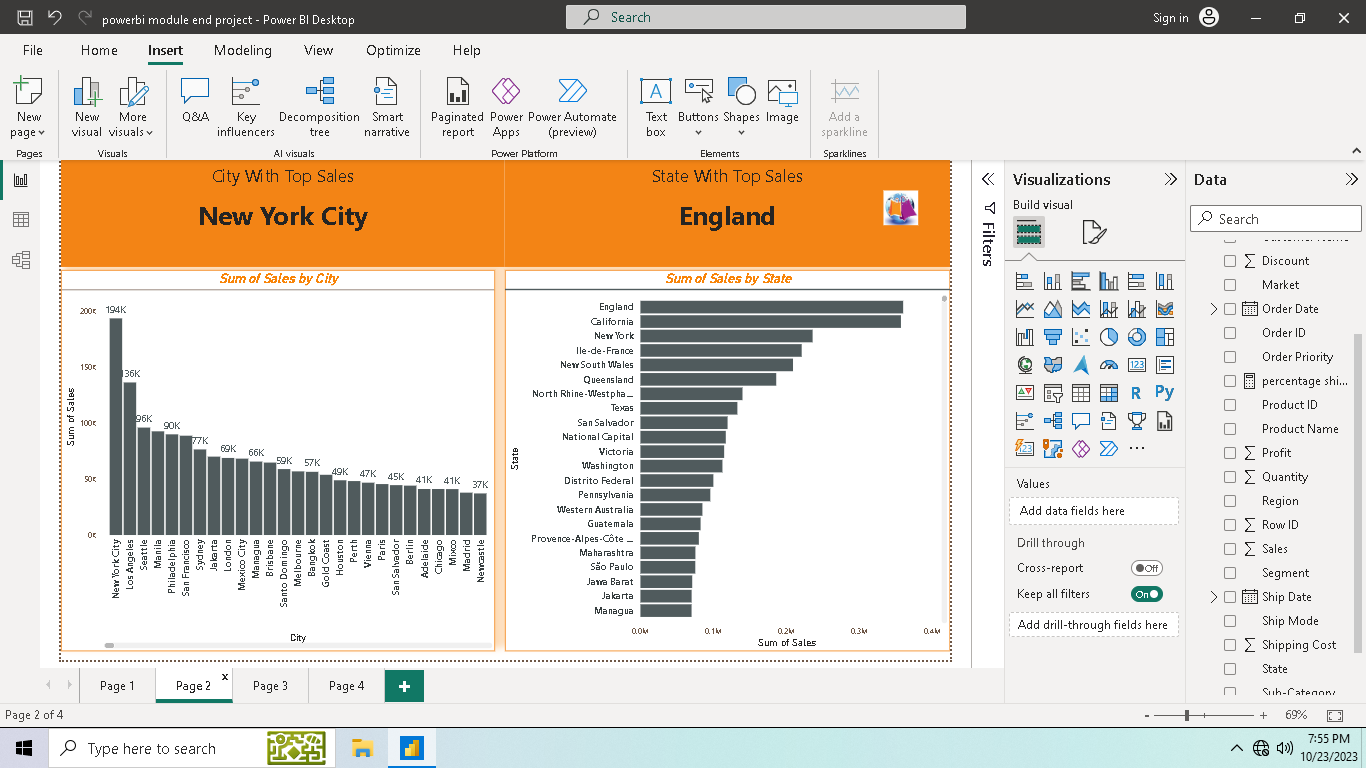

The dashboard page shown, as its layout file describes it:
{"tool":"powerbi","page":{"name":"Page 2","canvas":[1280,720],"ordinal":1},"visuals":[{"type":"clusteredColumnChart","fields":{"Category":["Orders.City"],"Y":["Sum(Orders.Sales)"]},"box":[0,158.4,625,548.6],"z":0},{"type":"clusteredBarChart","fields":{"Category":["Orders.State"],"Y":["Sum(Orders.Sales)"]},"box":[639.4,158.4,640.8,548.6],"z":1000},{"type":"textbox","box":[24.5,23,603.4,121],"z":2000},{"type":"textbox","box":[0,0,639.4,154.1],"z":3000},{"type":"textbox","box":[639.4,0,640.8,154.1],"z":4000},{"type":"shape","box":[639.4,56.2,640.8,260.6],"z":5000},{"type":"image","box":[1179.4,38.9,60.5,60.5],"z":6000}]}

Visuals, with their boxes on the page's 1280x720 design canvas (x1, y1, x2, y2). These are canvas units, not pixel positions in the 1366x768 screenshot, which may show the page scaled, cropped or inside an application window:
clusteredColumnChart - Orders.City x Sum(Orders.Sales): bbox(0, 158, 625, 707)
clusteredBarChart - Orders.State x Sum(Orders.Sales): bbox(639, 158, 1280, 707)
textbox: bbox(24, 23, 628, 144)
textbox: bbox(0, 0, 639, 154)
textbox: bbox(639, 0, 1280, 154)
shape: bbox(639, 56, 1280, 317)
image: bbox(1179, 39, 1240, 99)
